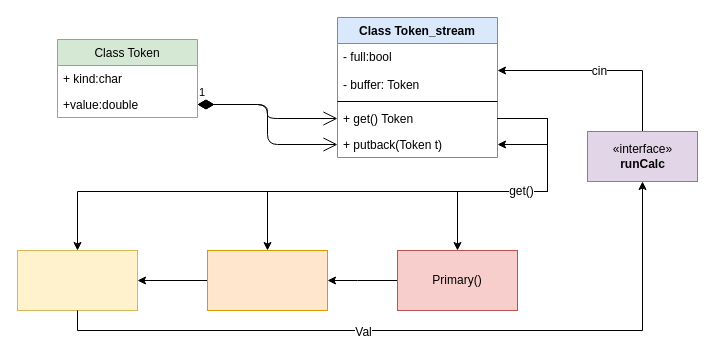
Some shapes in this 715 by 356 pixel diagram are drawn without their labels. Here are the shapes that lost their labels. From the top down, the centre of each, then its label:
(77,280): expression()
(267,280): term()
